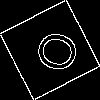O: (25, 25, 81, 76)
